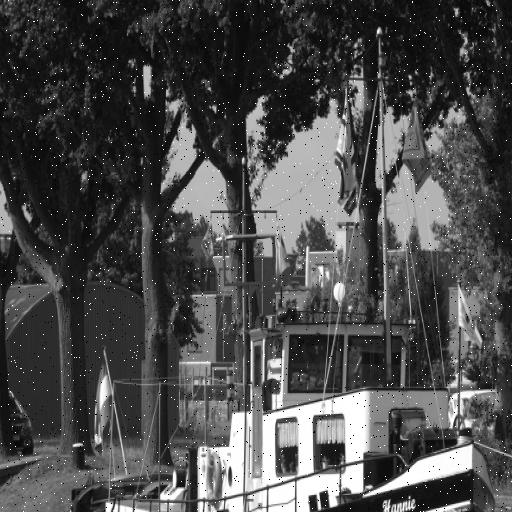tugboat: (53, 151, 506, 512)
